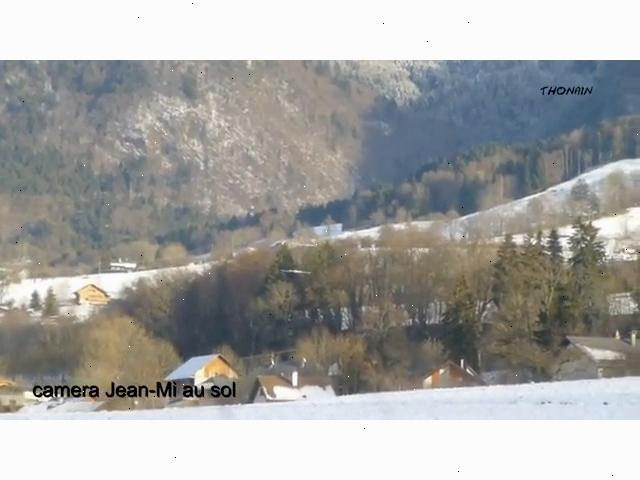Anti-Drone: (277, 264, 315, 284)
